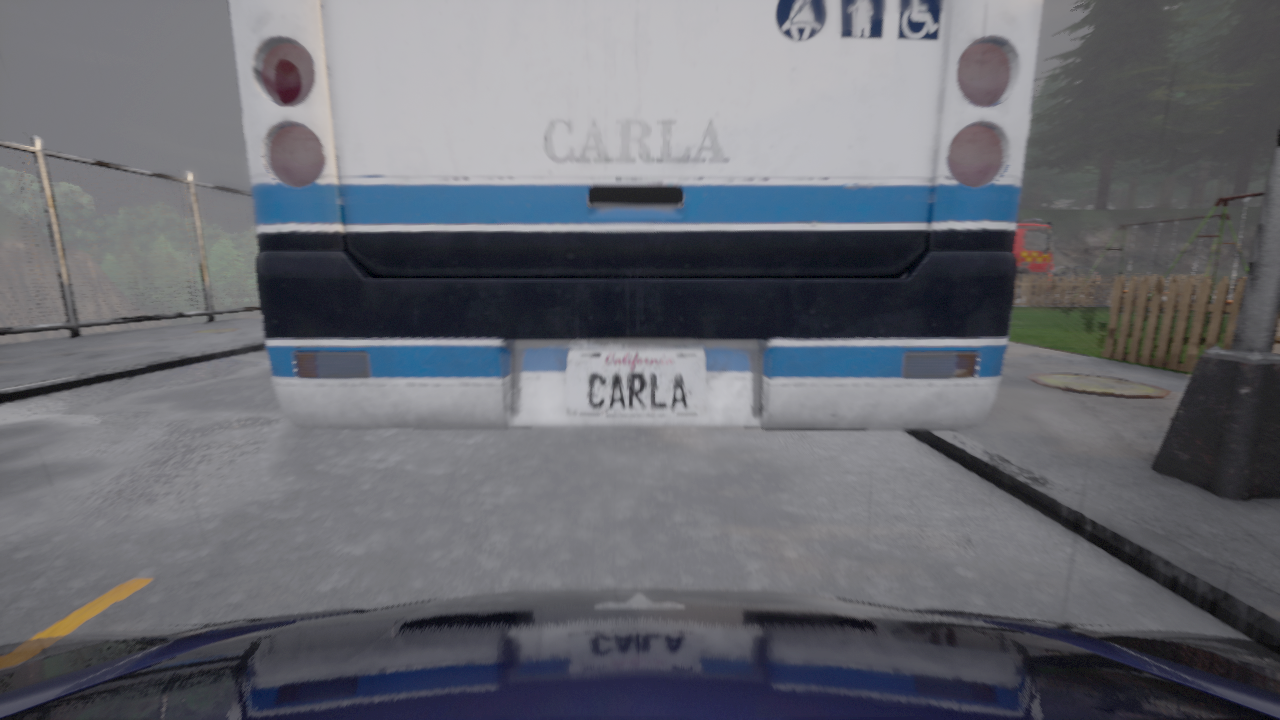cyclist: (228, 0, 1043, 429), (0, 588, 1279, 719), (1013, 218, 1054, 299), (1038, 266, 1099, 296), (1232, 278, 1240, 291)
